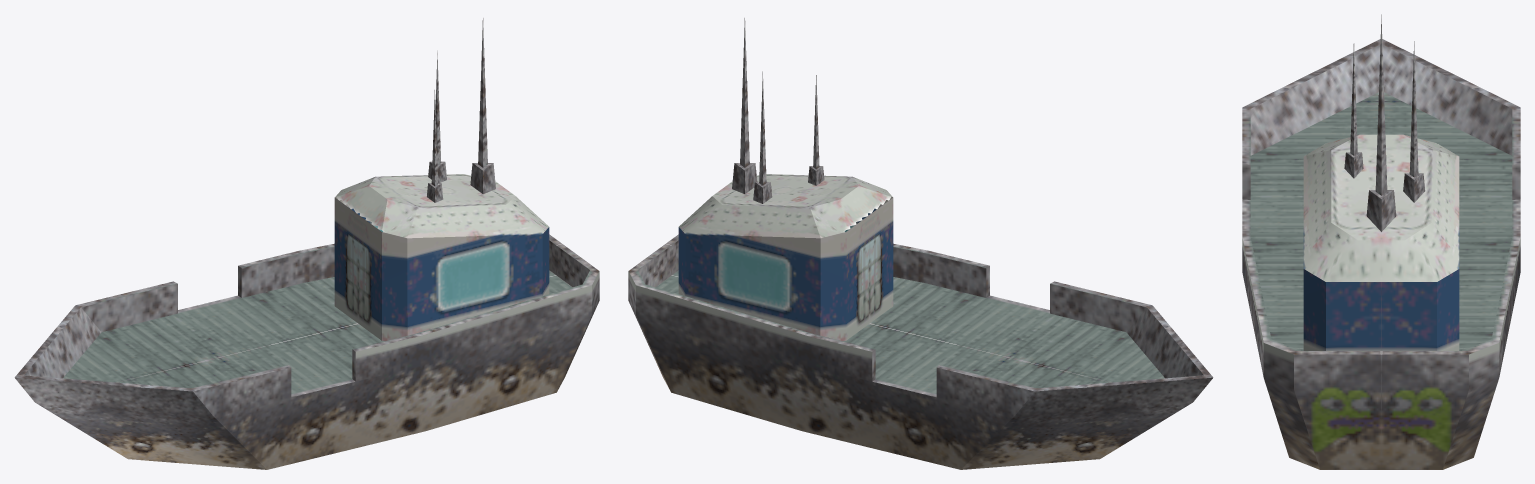
The model's file is Boot.fbx.
3 renders of one model, left to right at view 1: azimuth 30°, elevation 25°; view 2: azimuth 150°, elevation 25°; view 3: azimuth 270°, elevation 25°, orthographic. The views are drawn at different scales.
Visible parts, largest first — view 1: Boot; view 2: Boot; view 3: Boot.
Boxes of the visible parts, <box> form: Boot: <box>14,18,599,469</box>; Boot: <box>628,18,1213,469</box>; Boot: <box>1242,14,1520,469</box>.
Size of the model in its own units: 1344 by 840 by 500.
Materials: 1 (1 with a texture image).
